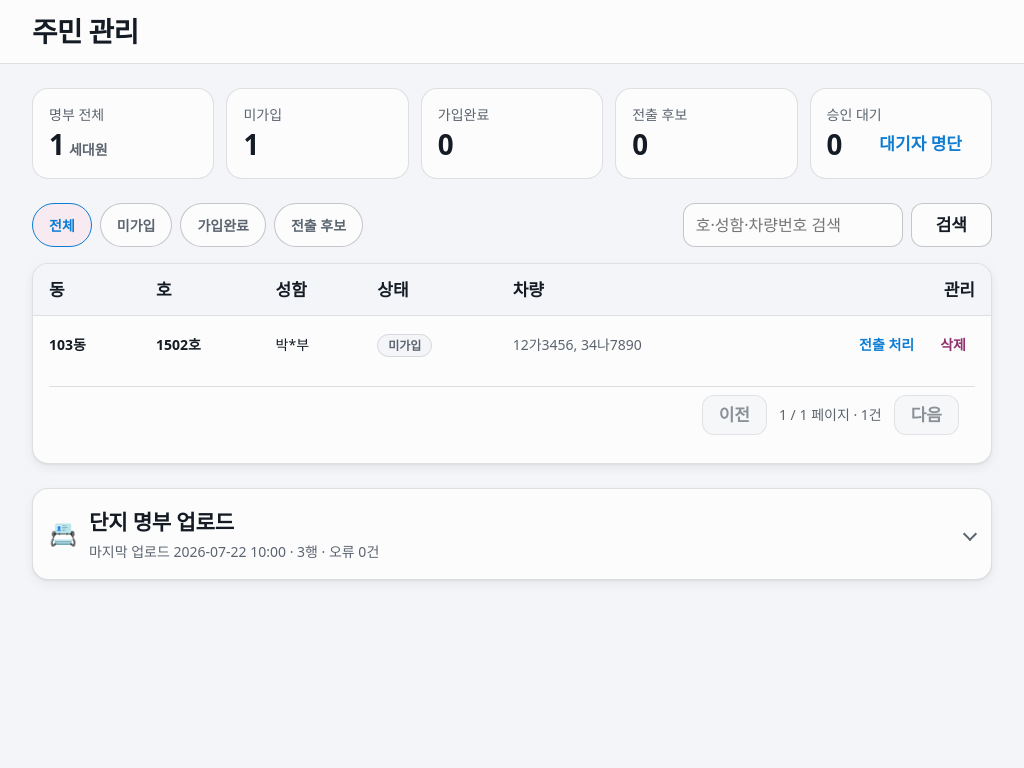
Scenario: Approvals › 모든 신청을 처리하면 빈 상태를 보여준다
The width and height of the screenshot is (1024, 768).
Step 1. Click the button "대기자 명단" → (921, 143), box left=866, top=127, right=975, bottom=159
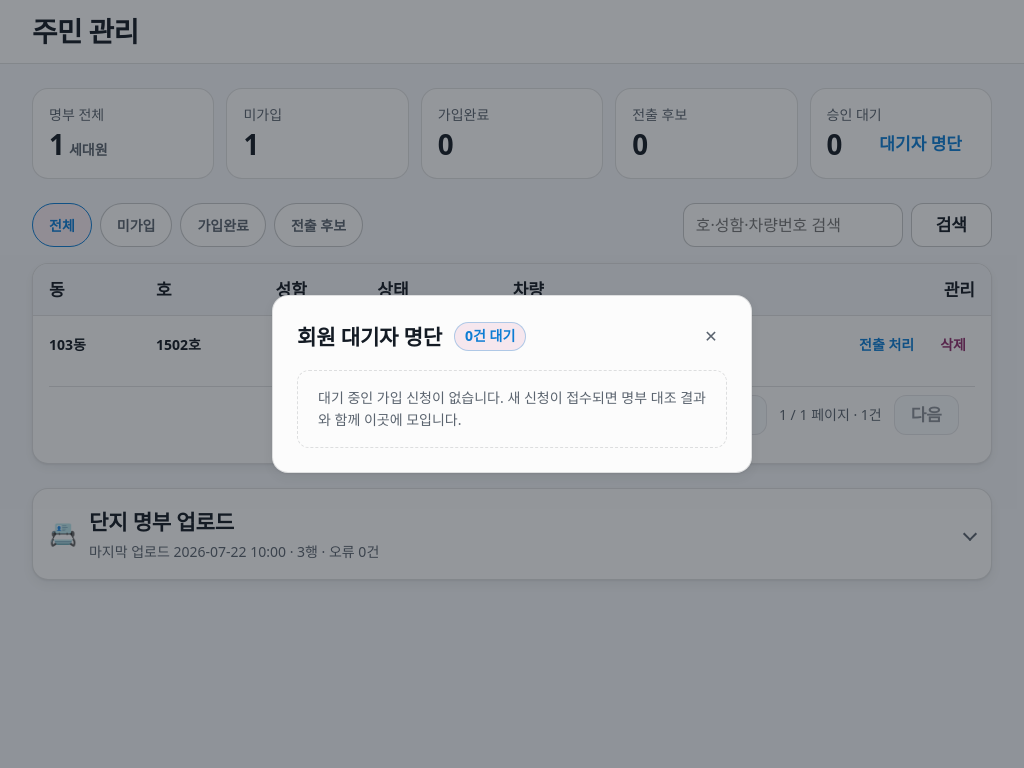
Expected: the text "대기 중인 가입 신청이 없습니다. 새 신청이 접수되면 명부 대조 결과와 함께 이곳에 모입니다." is shown, left=297, top=370, right=727, bottom=448
